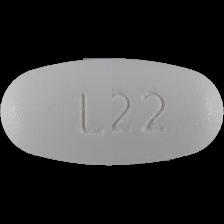50268-311: (0, 0, 224, 224)
